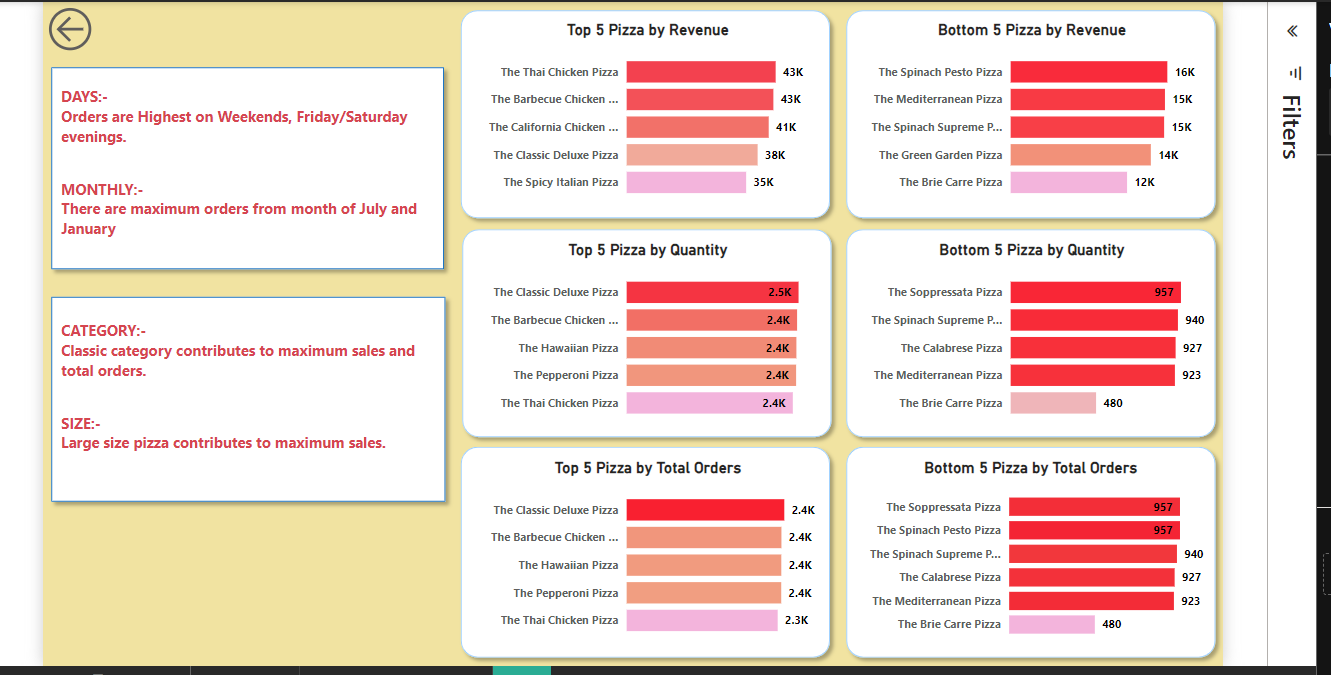

The page's visual inventory and layout, read from the dashboard file:
{"tool":"powerbi","page":{"name":"Top and Bottom","canvas":[1280,720],"ordinal":1},"visuals":[{"type":"actionButton","box":[0,0,74.8,58.9],"z":0},{"type":"shape","box":[862.1,0,418.3,243.4],"z":0,"group":"g6"},{"type":"shape","box":[0,62,443.8,237],"z":0,"group":"g9"},{"type":"shape","box":[0,310.5,445.4,240.2],"z":0,"group":"g10"},{"type":"shape","box":[443.8,0,418.3,243.4],"z":1000,"group":"g3"},{"type":"group","id":"g1","title":"Group 1","box":[0,62,443.8,237],"z":1000},{"type":"textbox","box":[14.3,85.8,415.1,192.5],"z":1000,"group":"g9"},{"type":"textbox","box":[14.3,339.9,415.1,192.5],"z":1000,"group":"g10"},{"type":"shape","box":[445.4,236.7,418.3,243.4],"z":2000,"group":"g4"},{"type":"group","id":"g2","title":"Group 2","box":[0,310.5,445.4,240.2],"z":2000},{"type":"group","id":"g3","title":"Group 3","box":[443.8,0,418.3,243.4],"z":3000},{"type":"shape","box":[443.8,473.5,418.3,246.5],"z":3000,"group":"g5"},{"type":"group","id":"g4","title":"Group 4","box":[445.4,236.7,418.3,243.4],"z":4000},{"type":"shape","box":[862.1,237,418.3,243.4],"z":4000,"group":"g7"},{"type":"group","id":"g5","title":"Group 5","box":[443.8,473.5,418.3,246.5],"z":5000},{"type":"shape","box":[862.1,473.5,418.3,246.5],"z":5000,"group":"g8"},{"type":"group","id":"g6","title":"Group 6","box":[862.1,0,418.3,243.4],"z":6000},{"type":"barChart","title":"Top 5 Pizza by Quantity","fields":{"Category":["pizza_sales.pizza_name"],"Y":["Sum(pizza_sales.quantity)"]},"box":[462.9,257.7,384.9,205.2],"z":6000,"group":"g4"},{"type":"group","id":"g7","title":"Group 7","box":[862.1,237,418.3,243.4],"z":7000},{"type":"barChart","title":"Top 5 Pizza by Total Orders","fields":{"Category":["pizza_sales.pizza_name"],"Y":["CountNonNull(pizza_sales.order_id)"]},"box":[462.9,494.7,384.9,205.2],"z":7000,"group":"g5"},{"type":"barChart","title":"Top 5 Pizza by  Revenue","fields":{"Category":["pizza_sales.pizza_name"],"Y":["Sum(pizza_sales.total_price)"]},"box":[462.9,19.1,384.9,205.2],"z":8000,"group":"g3"},{"type":"group","id":"g8","title":"Group 8","box":[862.1,473.5,418.3,246.5],"z":8000},{"type":"barChart","title":"Bottom 5 Pizza by Revenue ","fields":{"Category":["pizza_sales.pizza_name"],"Y":["Sum(pizza_sales.total_price)"]},"box":[879.6,19.1,384.9,205.2],"z":9000,"group":"g6"},{"type":"barChart","title":"Bottom 5 Pizza by Quantity","fields":{"Category":["pizza_sales.pizza_name"],"Y":["CountNonNull(pizza_sales.quantity)"]},"box":[879.6,257.7,384.9,205.2],"z":10000,"group":"g7"},{"type":"barChart","title":"Bottom 5 Pizza by Total Orders","fields":{"Category":["pizza_sales.pizza_name"],"Y":["CountNonNull(pizza_sales.order_id)"]},"box":[878.7,495.2,385.5,206],"z":11000,"group":"g8"},{"type":"group","id":"g9","title":"Group 9","box":[0,62,443.8,237],"z":14007,"group":"g1"},{"type":"group","id":"g10","title":"Group 10","box":[0,310.5,445.4,240.2],"z":14007,"group":"g2"}]}

Visuals, with their boxes on the page's 1280x720 design canvas (x1, y1, x2, y2). These are canvas units, not pixel positions in the 1331x675 screenshot, which may show the page scaled, cropped or inside an application window:
actionButton: (left=0, top=0, right=75, bottom=59)
shape: (left=862, top=0, right=1280, bottom=243)
shape: (left=0, top=62, right=444, bottom=299)
shape: (left=0, top=310, right=445, bottom=551)
shape: (left=444, top=0, right=862, bottom=243)
"Group 1" group: (left=0, top=62, right=444, bottom=299)
textbox: (left=14, top=86, right=429, bottom=278)
textbox: (left=14, top=340, right=429, bottom=532)
shape: (left=445, top=237, right=864, bottom=480)
"Group 2" group: (left=0, top=310, right=445, bottom=551)
"Group 3" group: (left=444, top=0, right=862, bottom=243)
shape: (left=444, top=474, right=862, bottom=720)
"Group 4" group: (left=445, top=237, right=864, bottom=480)
shape: (left=862, top=237, right=1280, bottom=480)
"Group 5" group: (left=444, top=474, right=862, bottom=720)
shape: (left=862, top=474, right=1280, bottom=720)
"Group 6" group: (left=862, top=0, right=1280, bottom=243)
"Top 5 Pizza by Quantity" barChart: (left=463, top=258, right=848, bottom=463)
"Group 7" group: (left=862, top=237, right=1280, bottom=480)
"Top 5 Pizza by Total Orders" barChart: (left=463, top=495, right=848, bottom=700)
"Top 5 Pizza by  Revenue" barChart: (left=463, top=19, right=848, bottom=224)
"Group 8" group: (left=862, top=474, right=1280, bottom=720)
"Bottom 5 Pizza by Revenue " barChart: (left=880, top=19, right=1264, bottom=224)
"Bottom 5 Pizza by Quantity" barChart: (left=880, top=258, right=1264, bottom=463)
"Bottom 5 Pizza by Total Orders" barChart: (left=879, top=495, right=1264, bottom=701)
"Group 9" group: (left=0, top=62, right=444, bottom=299)
"Group 10" group: (left=0, top=310, right=445, bottom=551)
